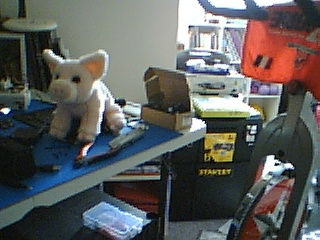piggy: (40, 47, 126, 144)
